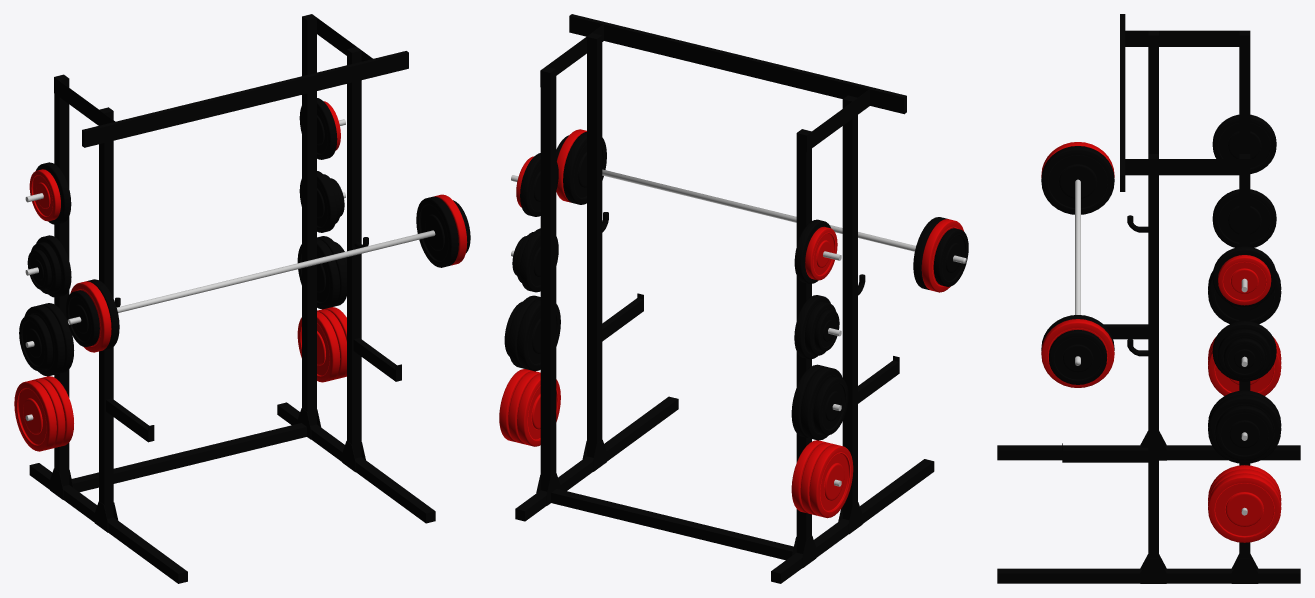
Rendered from BarbellStand.fbx.
The picture shows the model from 3 angles, left to right: view 1: azimuth 30°, elevation 25°; view 2: azimuth 150°, elevation 25°; view 3: azimuth 270°, elevation 25°; orthographic projection. The views are drawn at different scales.
Visible parts, largest first — view 1: Cylinder.036, Cylinder.001, Cylinder.004, Cylinder.013, Cylinder.008, Cylinder.007, Cylinder.024, Cylinder.010, Cylinder.021, Cylinder.014, Cylinder.023, Cylinder.018 (+7 smaller); view 2: Cylinder.036, Cylinder.001, Cylinder.004, Cylinder.013, Cylinder.008, Cylinder.007, Cylinder.024, Cylinder.010, Cylinder.014, Cylinder.021, Cylinder.023, Cylinder.018 (+8 smaller); view 3: Cylinder.036, Cylinder.001, Cylinder.003, Cylinder.012, Cylinder.018, Cylinder.023, Cylinder.022, Cylinder.009, Cylinder.011, Cylinder.006, Cylinder.017, Cylinder.014 (+2 smaller).
Boxes of the visible parts, x1,y1,x2,y2 form: Cylinder.036: [25, 14, 435, 583]; Cylinder.001: [66, 194, 470, 352]; Cylinder.004: [14, 380, 56, 451]; Cylinder.013: [19, 314, 52, 371]; Cylinder.008: [297, 311, 340, 382]; Cylinder.007: [297, 238, 340, 309]; Cylinder.024: [29, 169, 60, 221]; Cylinder.010: [24, 305, 65, 376]; Cylinder.021: [299, 98, 337, 159]; Cylinder.014: [299, 171, 337, 232]; Cylinder.023: [36, 162, 71, 224]; Cylinder.018: [36, 235, 71, 297]; Cylinder.036: [511, 14, 934, 583]; Cylinder.001: [556, 129, 968, 292]; Cylinder.004: [809, 444, 853, 518]; Cylinder.013: [813, 376, 848, 435]; Cylinder.008: [517, 373, 560, 446]; Cylinder.007: [517, 298, 560, 371]; Cylinder.024: [805, 226, 837, 280]; Cylinder.010: [800, 367, 842, 440]; Cylinder.014: [520, 228, 558, 292]; Cylinder.021: [520, 153, 558, 216]; Cylinder.023: [794, 219, 830, 283]; Cylinder.018: [794, 295, 830, 359]; Cylinder.036: [997, 14, 1300, 583]; Cylinder.001: [1041, 142, 1114, 387]; Cylinder.003: [1208, 473, 1281, 542]; Cylinder.012: [1215, 405, 1273, 460]; Cylinder.018: [1212, 189, 1276, 247]; Cylinder.023: [1212, 114, 1276, 173]; Cylinder.022: [1218, 255, 1271, 305]; Cylinder.009: [1208, 394, 1281, 463]; Cylinder.011: [1208, 276, 1281, 324]; Cylinder.006: [1208, 350, 1281, 395]; Cylinder.017: [1224, 340, 1264, 377]; Cylinder.014: [1212, 321, 1276, 381].
Bounding box in the file's own units: 249 × 250 × 162.
